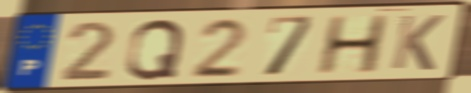2: (56, 19, 117, 83), (190, 16, 251, 80)
7: (264, 14, 315, 78)
H: (315, 12, 391, 76)
K: (388, 13, 447, 73)
Q: (123, 17, 188, 82)
